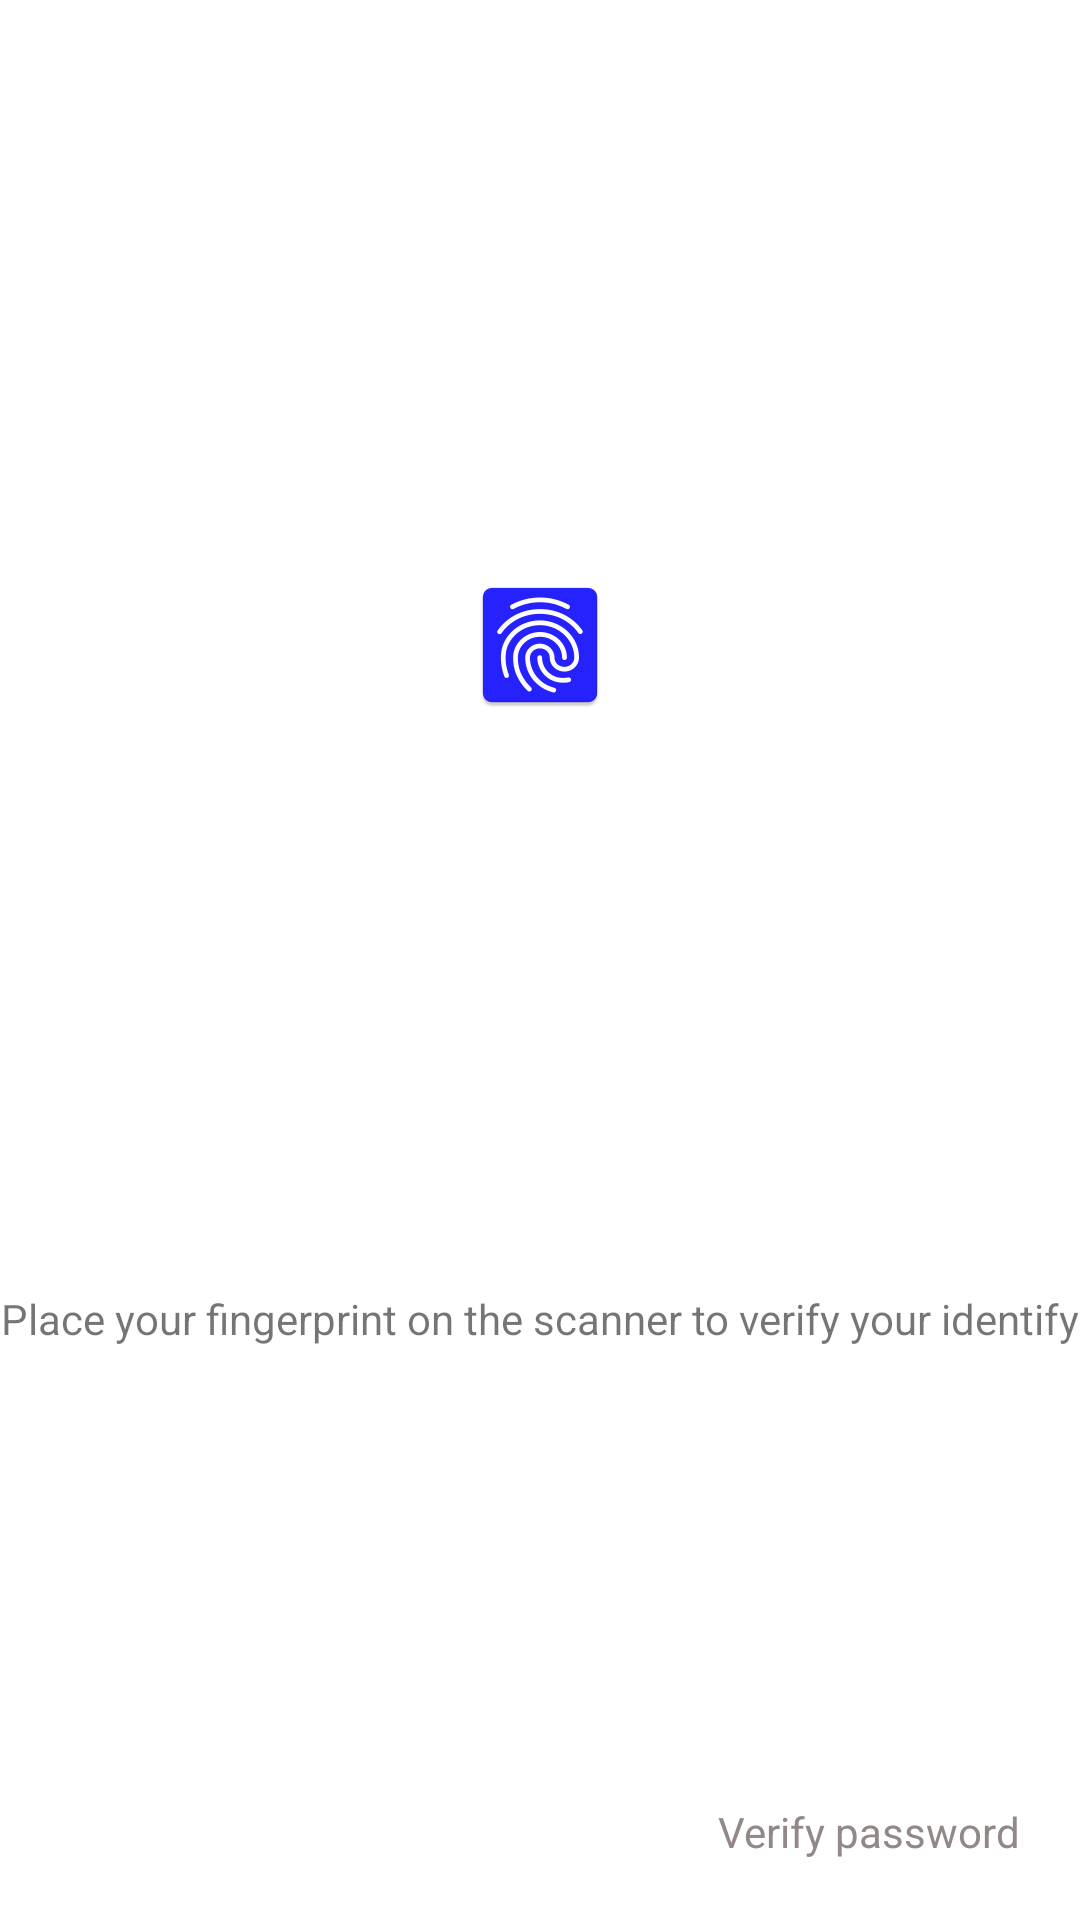

Screen size 1080*1920. Icon name, then its center in pixels as point (x, y):
fingerprint: point (540, 646)
